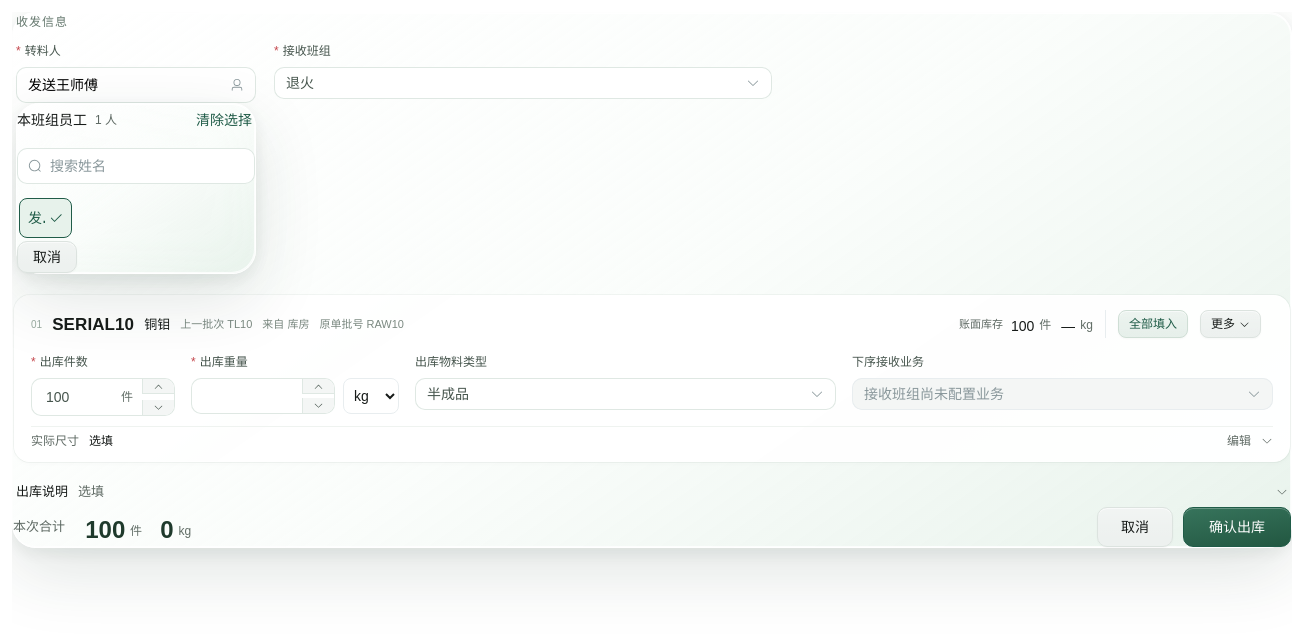
source batch dispatch and loss drafts › keeps an unreadable stock balance as an operational error instead of marking inputs
This screenshot has width=1304, height=642.
Click the button "确认出库": click(1237, 527) [1183,507,1291,547]
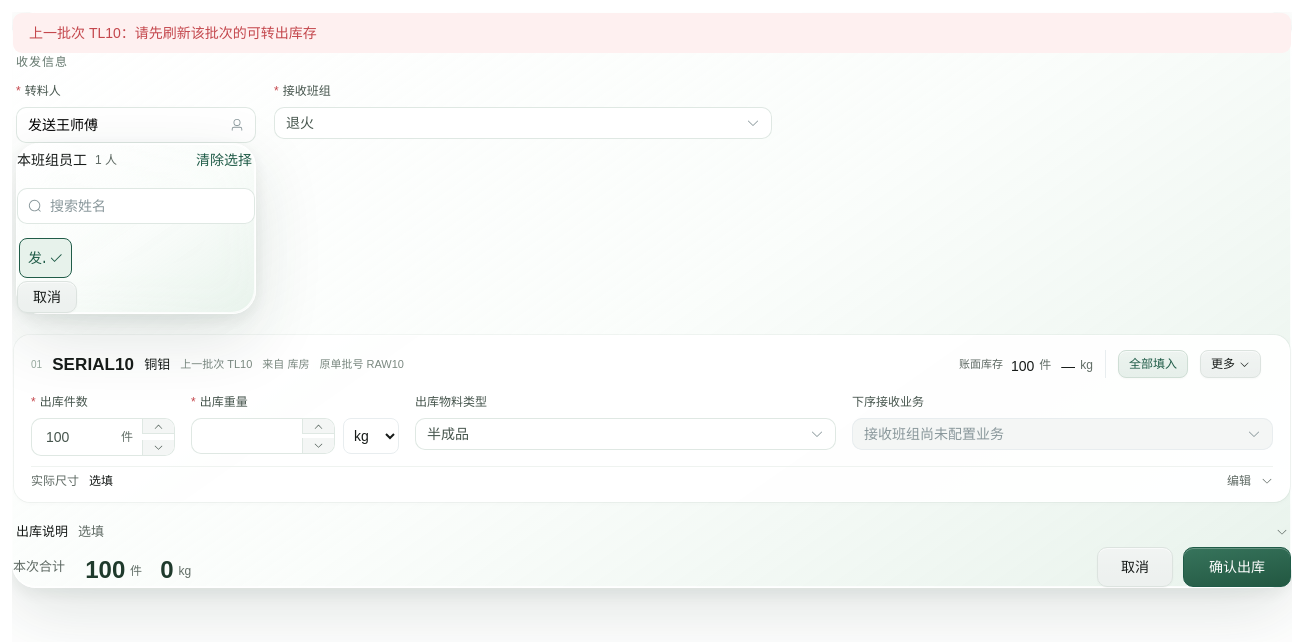
Check: the message "上一批次 TL10：请先刷新该批次的可转出库存" is shown, box [13,13,1291,53]
